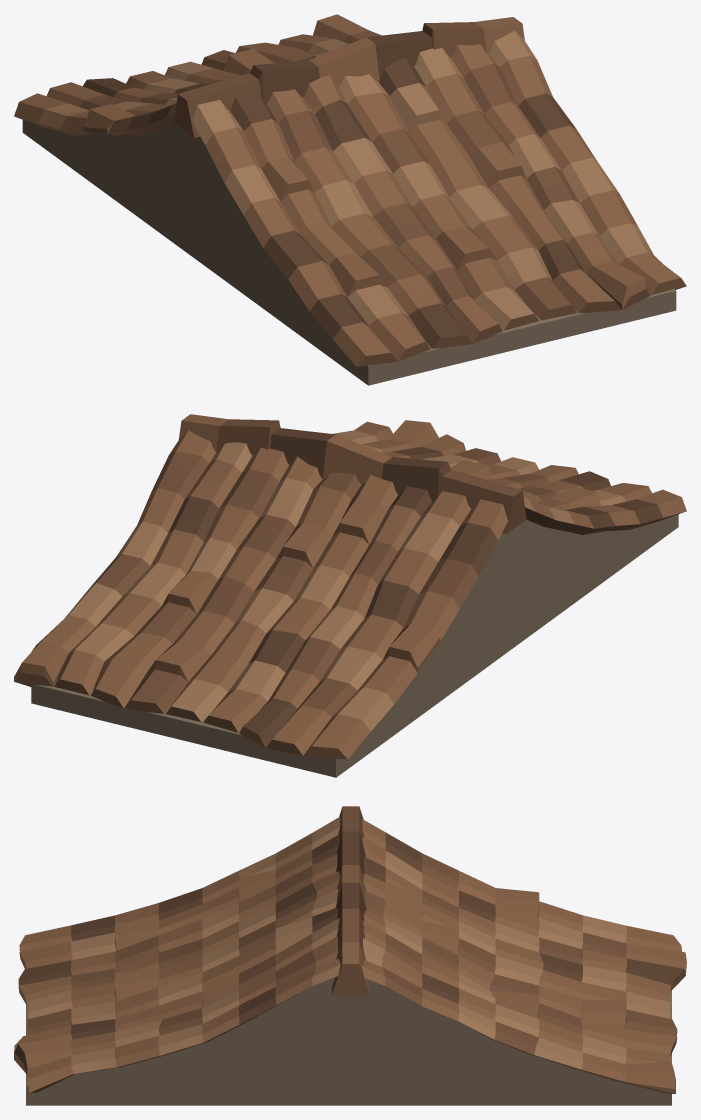
File: SM_Bld_Cuba_Roof_03.glb
3 views of the same model, one above another, from view 1: azimuth 30°, elevation 25°; view 2: azimuth 150°, elevation 25°; view 3: azimuth 270°, elevation 25° (orthographic). The views are drawn at different scales.
Parts seen in each view (by area): view 1: SM_Bld_Cuba_Roof_03; view 2: SM_Bld_Cuba_Roof_03; view 3: SM_Bld_Cuba_Roof_03.
Boxes of the visible parts, left/top/right/bottom form: SM_Bld_Cuba_Roof_03: left=14, top=14, right=686, bottom=385; SM_Bld_Cuba_Roof_03: left=14, top=414, right=686, bottom=777; SM_Bld_Cuba_Roof_03: left=14, top=806, right=686, bottom=1105.
Size of the model in its own units: 0.0238 by 0.0117 by 0.0436.
